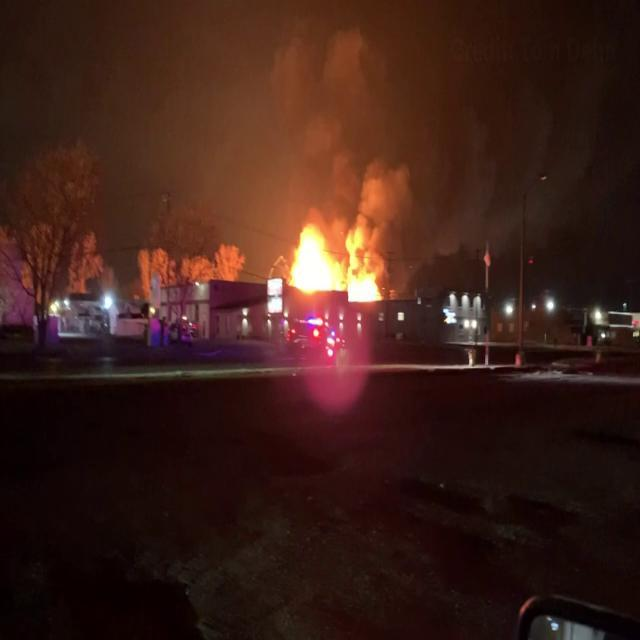Fire: (280, 216, 388, 312)
Smoke: (137, 2, 613, 226)
